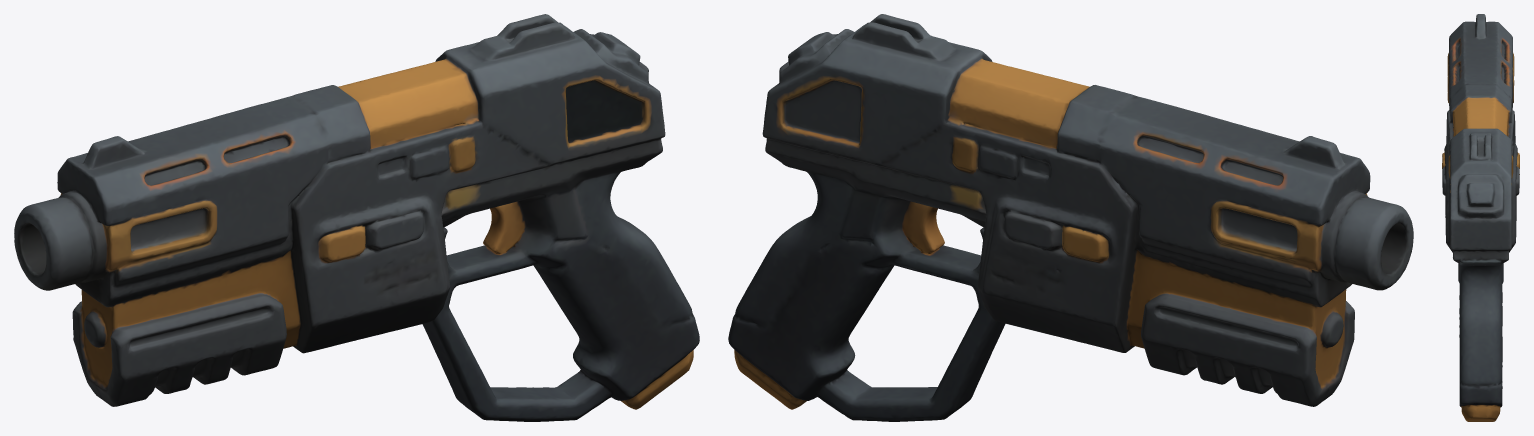
File: scifiweapon3D.glb
3 renders of one model, left to right at view 1: azimuth 30°, elevation 25°; view 2: azimuth 150°, elevation 25°; view 3: azimuth 270°, elevation 25°, orthographic. The views are drawn at different scales.
Size of the model in its own units: 1 by 0.5883 by 0.1633.
